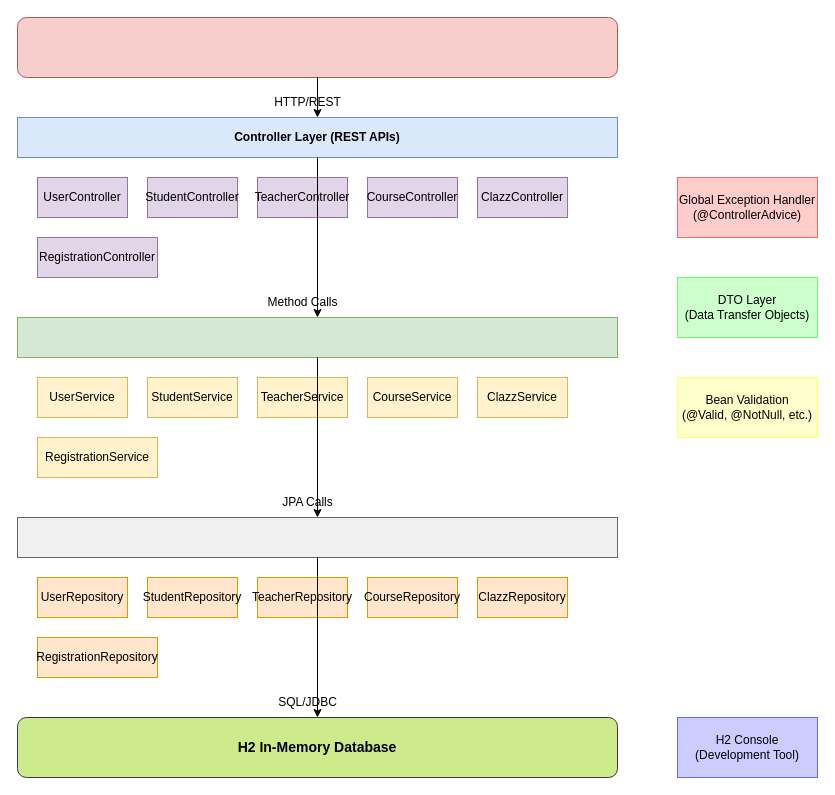
Some shapes in this 835 by 795 pixel diagram are drawn without their labels. The shapes that lost their labels are listed below. From the top down, each one's centre as x and y in pixels, then its label:
At point (317, 47): "Client Applications (Frontend, Mobile, Postman)".
At point (317, 337): "Service Layer (Business Logic)".
At point (317, 537): "Repository Layer (Data Access)".
